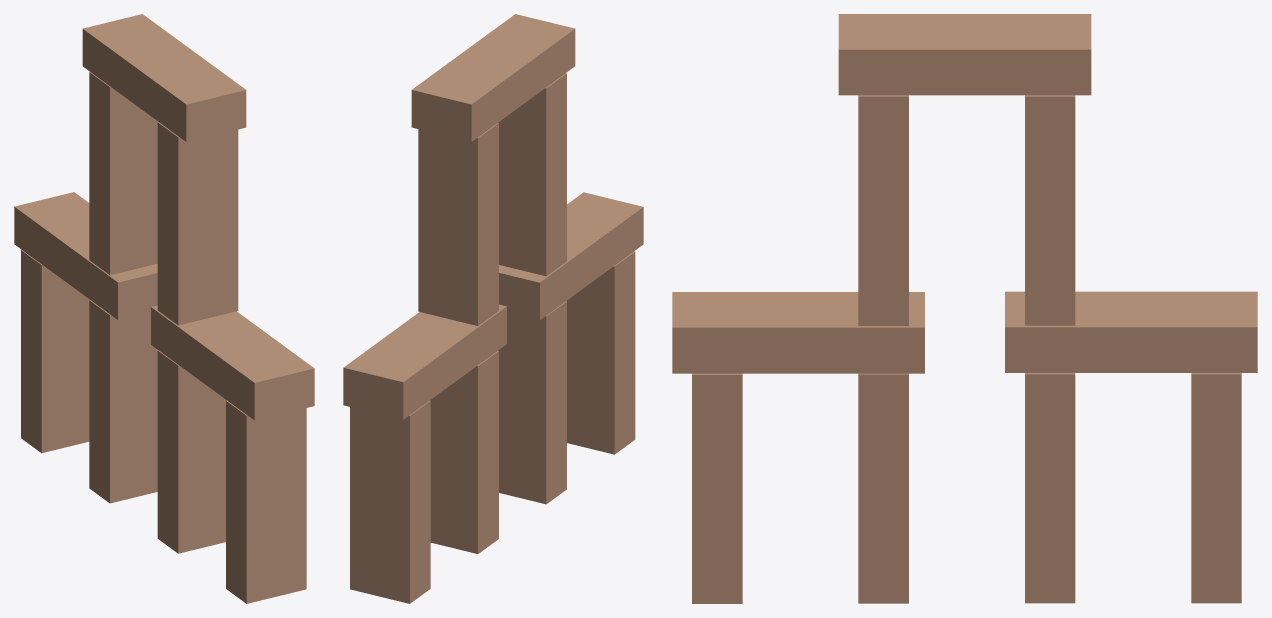
File: pi_tower.dae
The picture shows the model from 3 angles, left to right: view 1: azimuth 30°, elevation 25°; view 2: azimuth 150°, elevation 25°; view 3: azimuth 270°, elevation 25°; orthographic projection. The views are drawn at different scales.
Visible parts, largest first — view 1: base (×9); view 2: base (×9); view 3: base (×9).
Part boxes in pixels (x1,y1,x2,y2): base (×9): [14, 14, 314, 603]; base (×9): [343, 14, 643, 603]; base (×9): [672, 14, 1257, 603].
Bounding box in the file's own units: 0.0508 × 0.3531 × 0.3689.
